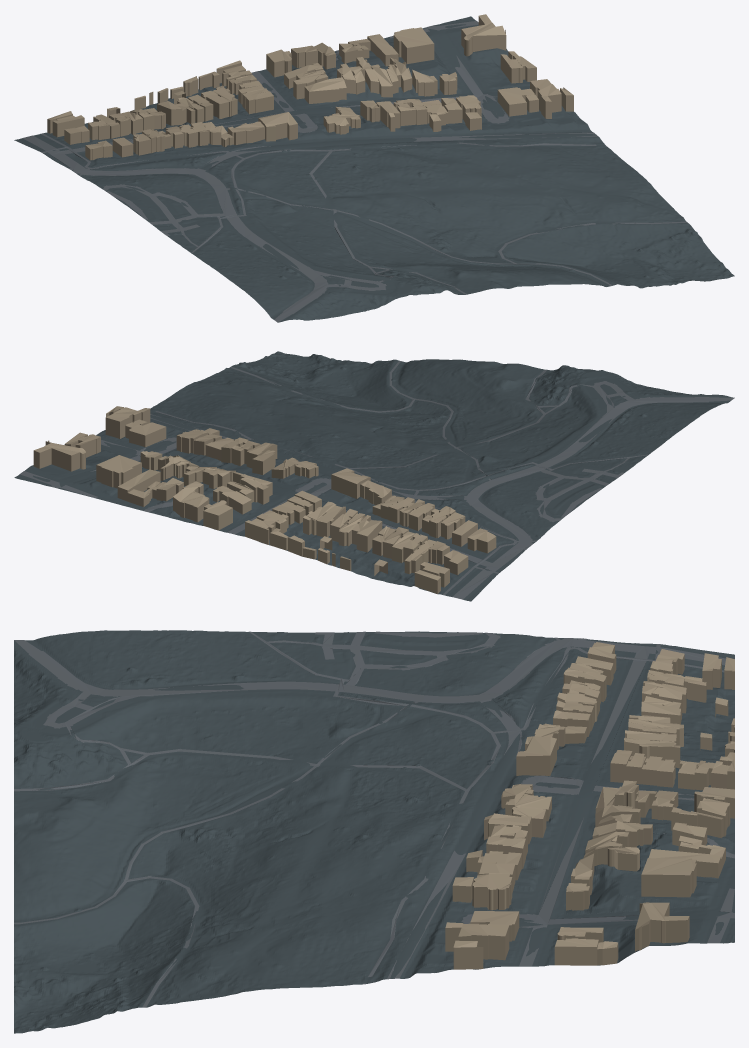
Rendered from epsg26910-1426-10892.lod0.glb.
3 views of the same model, one above another, from view 1: azimuth 30°, elevation 25°; view 2: azimuth 150°, elevation 25°; view 3: azimuth 270°, elevation 25° (orthographic). The views are drawn at different scales.
Parts seen in each view (by area): view 1: epsg26910-1426-10892-lod0; view 2: epsg26910-1426-10892-lod0; view 3: epsg26910-1426-10892-lod0.
Boxes of the visible parts, x1,y1,x2,y2 form: epsg26910-1426-10892-lod0: (14, 14, 734, 322); epsg26910-1426-10892-lod0: (14, 351, 734, 601); epsg26910-1426-10892-lod0: (14, 630, 734, 1033).
Size of the model in its own units: 384 by 68.53 by 384.
